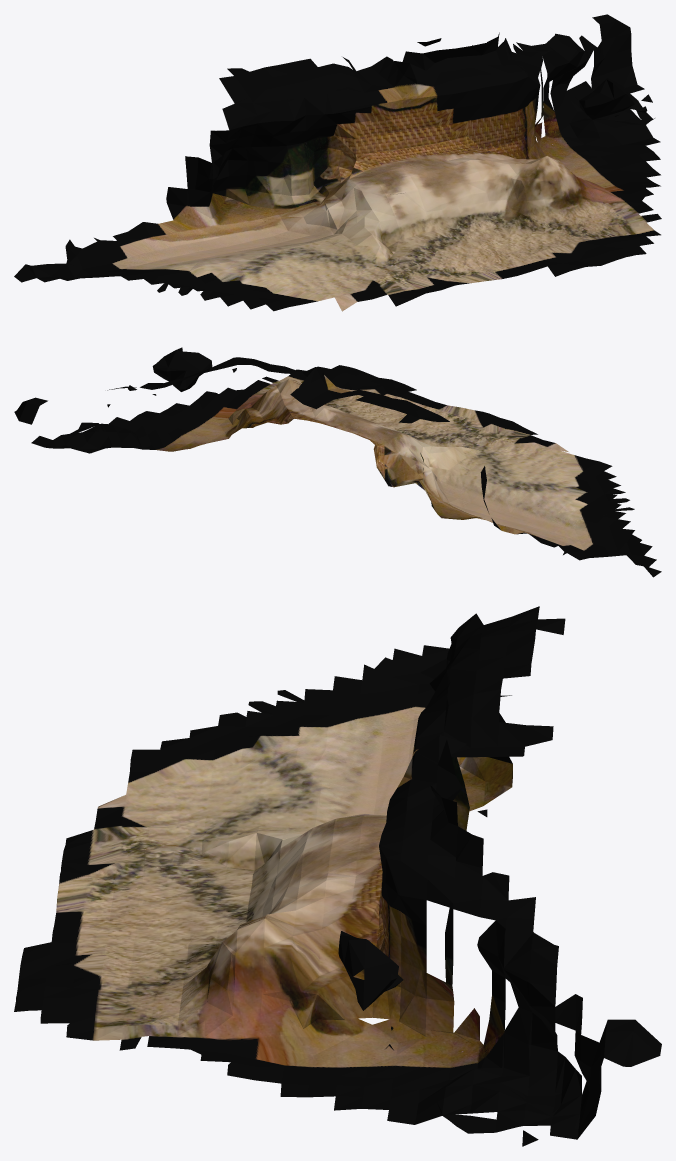
File: asset.glb
3 renders of one model, top to bottom at view 1: azimuth 30°, elevation 25°; view 2: azimuth 150°, elevation 25°; view 3: azimuth 270°, elevation 25°, orthographic. The views are drawn at different scales.
Parts seen in each view (by area): view 1: object; view 2: object; view 3: object.
Part boxes in pixels (<box>): object: <box>14,14,661,311</box>; object: <box>14,347,661,577</box>; object: <box>14,606,661,1146</box>.
Size of the model in its own units: 1.33 by 0.289 by 0.705.
Materials: 1 (1 with a texture image).
